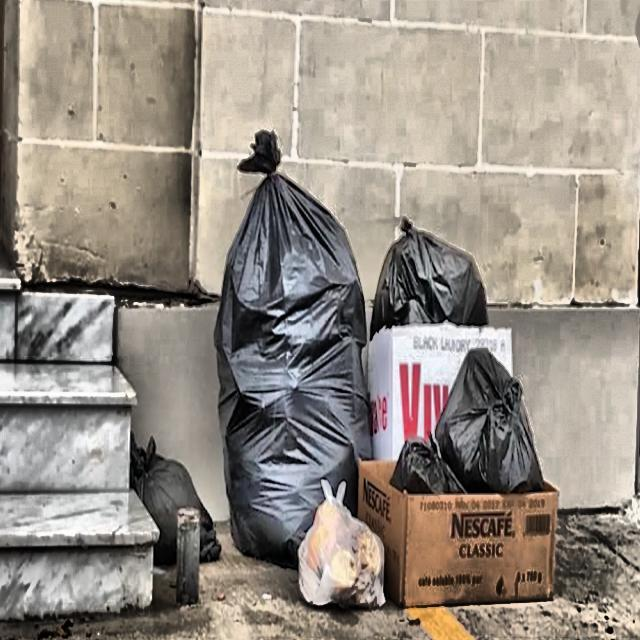Trashbag: (212, 116, 366, 572), (359, 184, 516, 338), (434, 347, 557, 503), (124, 446, 222, 562)
